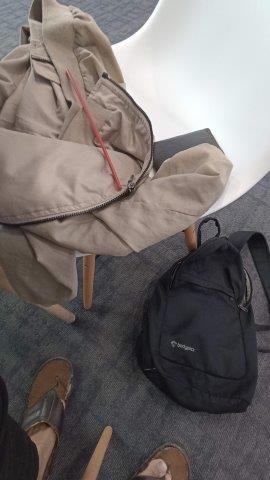sedotan: (65, 68, 121, 189)
